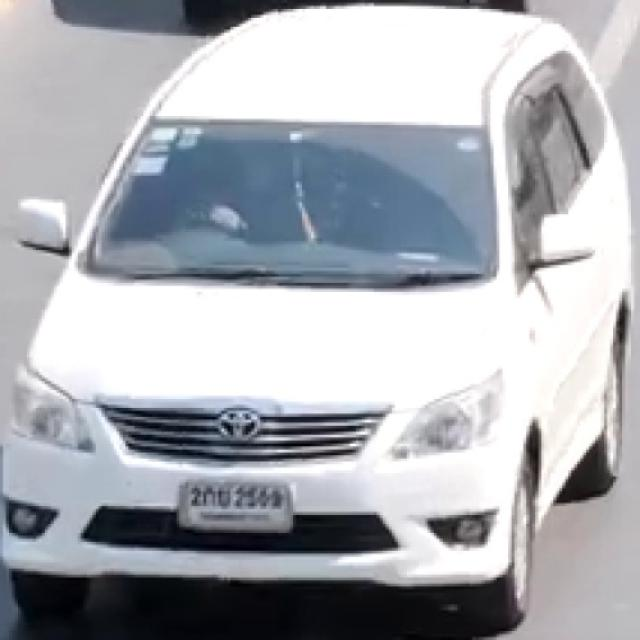plate: (178, 478, 293, 529)
